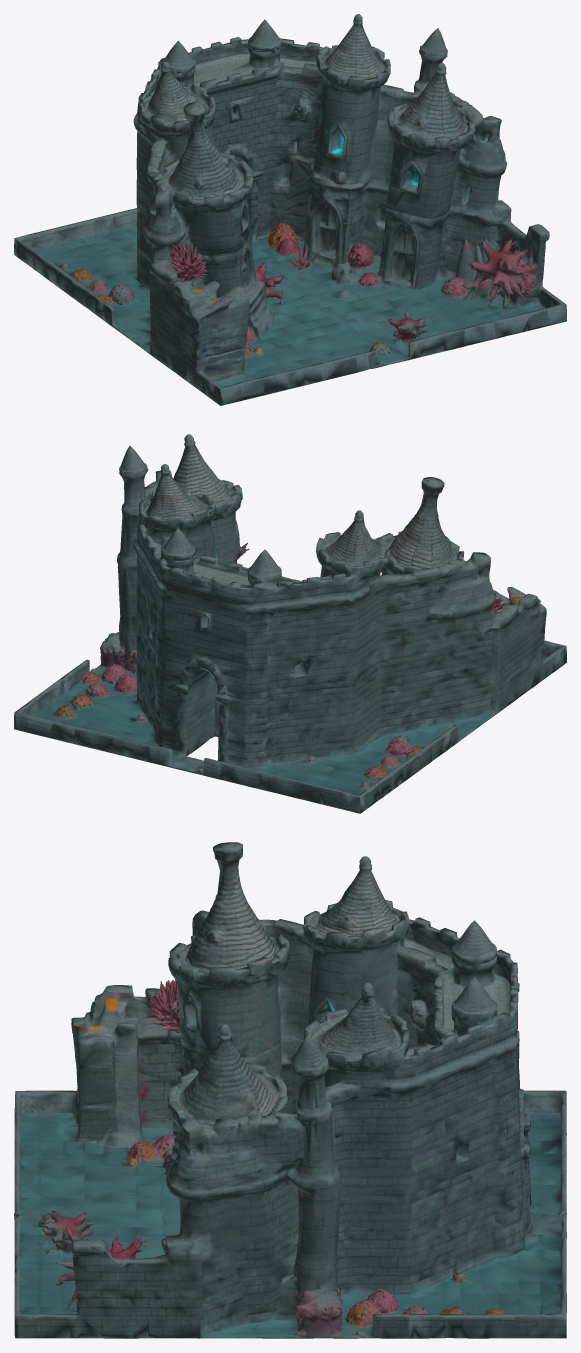
Rendered from sea-castle.glb.
The picture shows the model from 3 angles, top to bottom: view 1: azimuth 30°, elevation 25°; view 2: azimuth 150°, elevation 25°; view 3: azimuth 270°, elevation 25°; orthographic projection. The views are drawn at different scales.
Size of the model in its own units: 1.9 by 1.16 by 1.9.
1 material, 1 textured.
